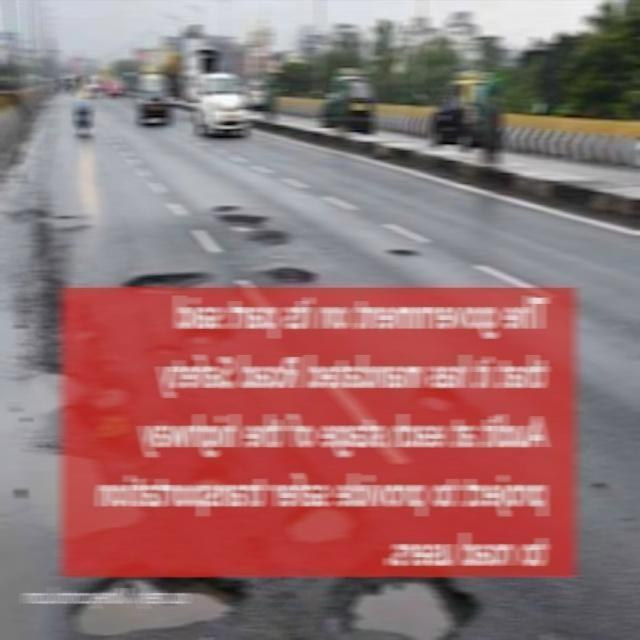Pothole: (55, 575, 262, 640), (330, 579, 501, 640), (15, 201, 70, 357), (125, 264, 229, 288), (264, 262, 320, 282), (210, 215, 269, 230), (247, 230, 292, 244), (386, 245, 422, 259), (587, 476, 611, 492), (210, 204, 239, 212)
